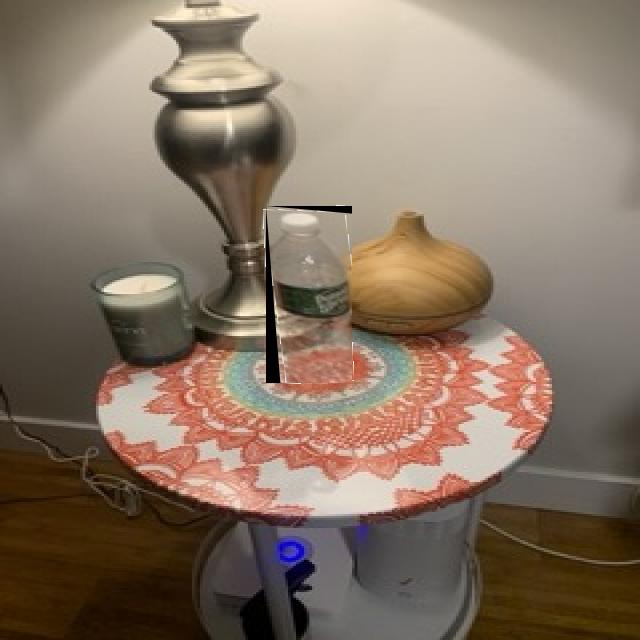water_bottle: (266, 206, 352, 383)
